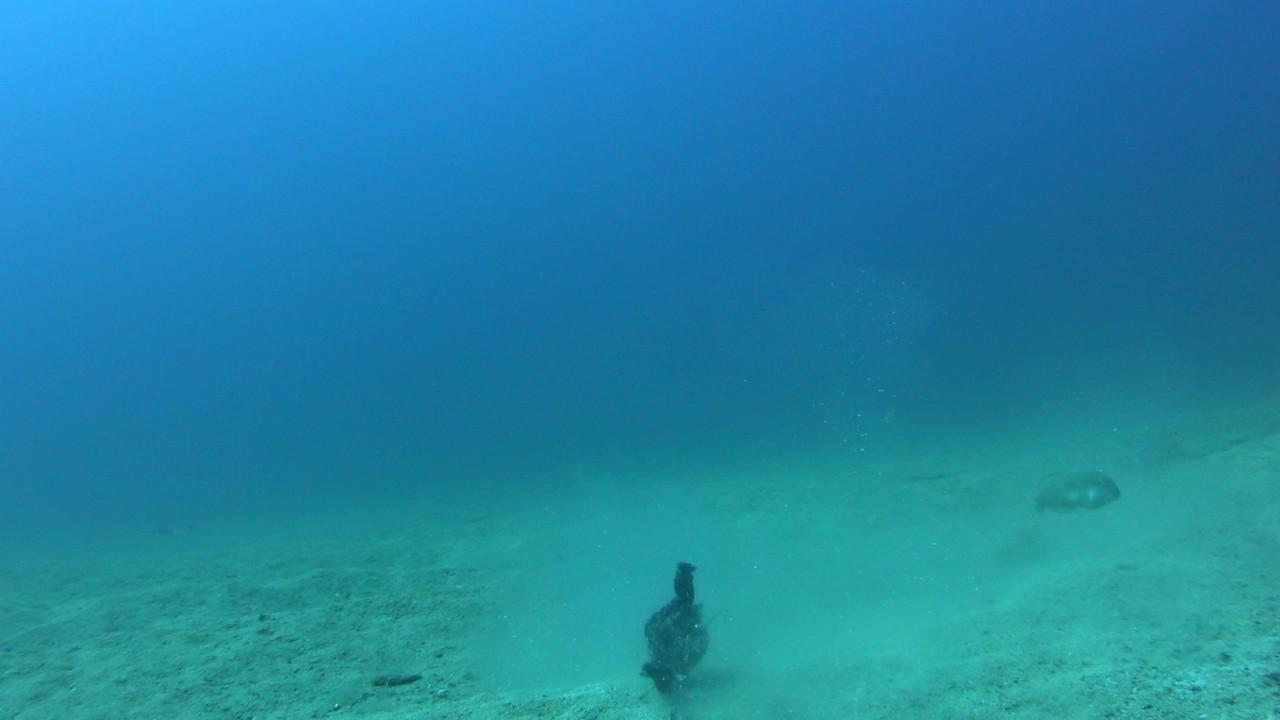myliobatis: (121, 508, 221, 552)
raor: (1033, 469, 1124, 517)
